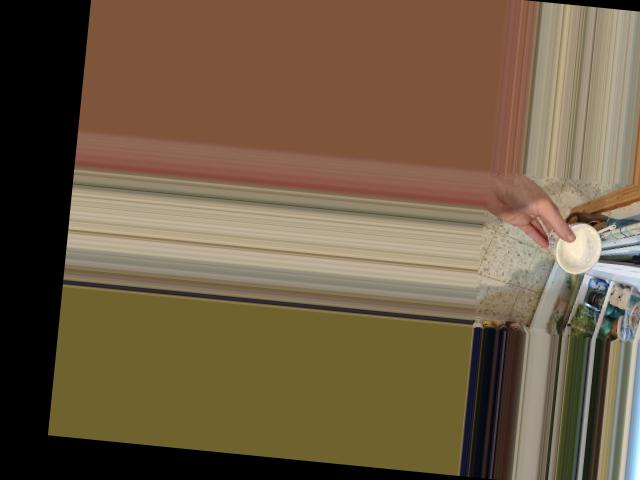cotage: (540, 215, 606, 270)
